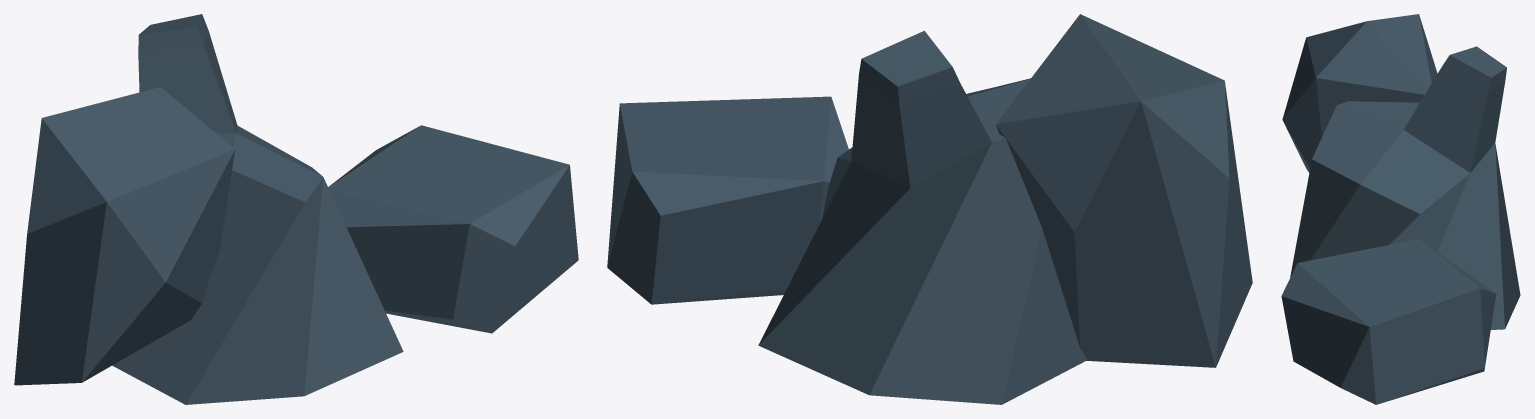
The model's file is rock-030.glb.
3 views of the same model, side by side, from view 1: azimuth 30°, elevation 25°; view 2: azimuth 150°, elevation 25°; view 3: azimuth 270°, elevation 25° (orthographic). The views are drawn at different scales.
Visible parts, largest first — view 1: Rock 16_530; view 2: Rock 16_530; view 3: Rock 16_530.
Boxes of the visible parts, left/top/right/bottom form: Rock 16_530: left=14, top=14, right=578, bottom=404; Rock 16_530: left=607, top=14, right=1252, bottom=404; Rock 16_530: left=1281, top=14, right=1520, bottom=404.
Bounding box in the file's own units: 2.04 × 1.06 × 0.9599.
